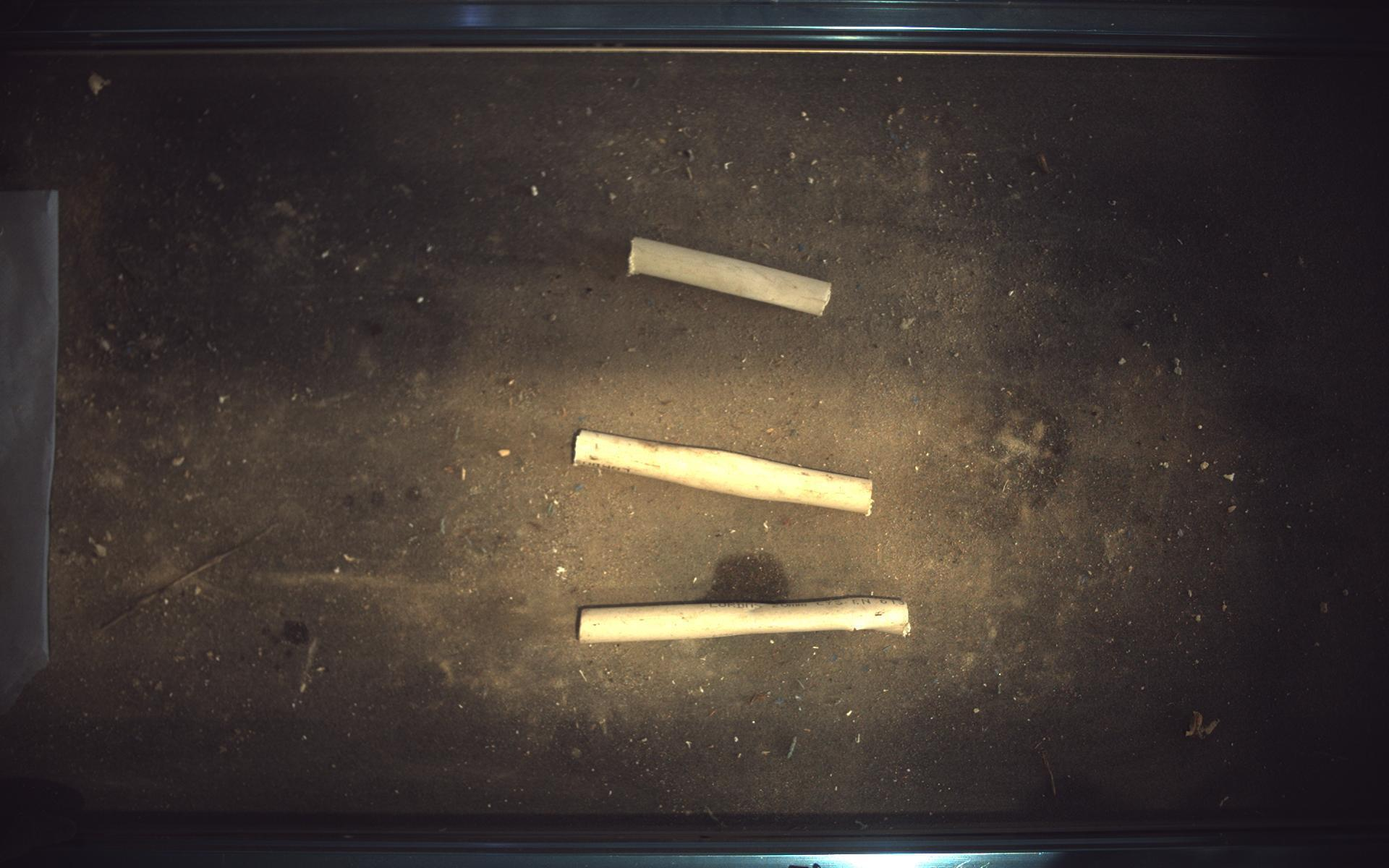pipes: (574, 430, 875, 515), (629, 237, 833, 315), (579, 597, 912, 644)
